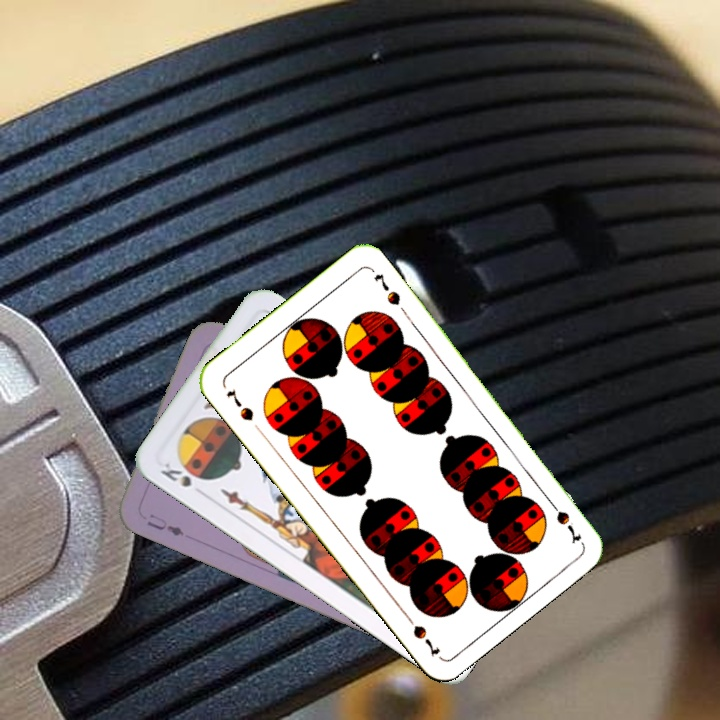EU: (143, 509, 187, 539)
S7: (543, 494, 584, 546), (222, 386, 256, 424)
SK: (156, 458, 208, 499)
